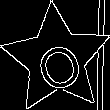O_NW: (28, 27, 86, 91)
